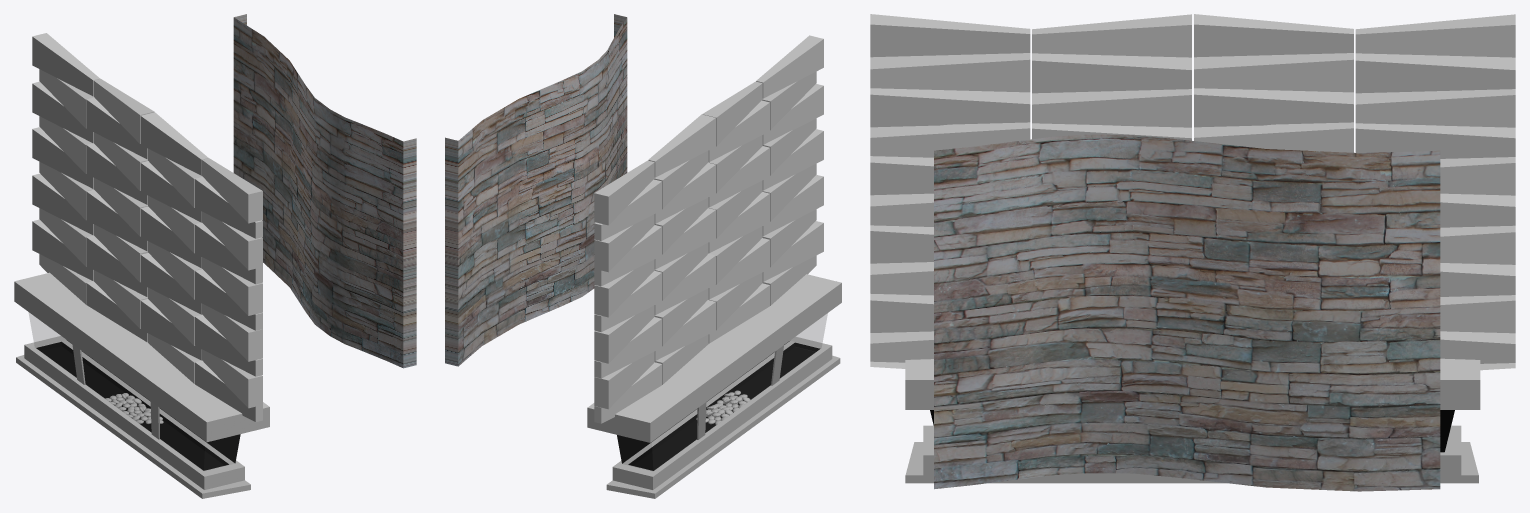
File: fireplace.fbx
The picture shows the model from 3 angles, left to right: view 1: azimuth 30°, elevation 25°; view 2: azimuth 150°, elevation 25°; view 3: azimuth 270°, elevation 25°; orthographic projection. The views are drawn at different scales.
Visible parts, largest first — view 1: fireplaceChiminy, fireplaceTop, fireplaceBase, fireplaceGlass, FireplaceWallTile19, FireplaceWallTile39, FireplaceWallTile20, FireplaceWallTile40, FireplaceWallTile18, FireplaceWallTile9, FireplaceWallTile7, FireplaceWallTile17 (+32 smaller); view 2: fireplaceChiminy, fireplaceTop, fireplaceBase, fireplaceGlass, FireplaceWallTile20, FireplaceWallTile40, FireplaceWallTile39, FireplaceWallTile35, FireplaceWallTile19, FireplaceWallTile22, FireplaceWallTile26, FireplaceWallTile25 (+33 smaller); view 3: fireplaceChiminy, FireplaceWallTile20, FireplaceWallTile39, FireplaceWallTile40, FireplaceWallTile19, FireplaceWallTile35, FireplaceWallTile15, FireplaceWallTile18, FireplaceWallTile38, FireplaceWallTile24, FireplaceWallTile17, FireplaceWallTile37 (+19 smaller).
Part boxes in pixels (x1=…): fireplaceChiminy: x1=233, y1=14, x2=416, y2=368; fireplaceTop: x1=14, y1=272, x2=269, y2=442; fireplaceBase: x1=16, y1=336, x2=250, y2=498; fireplaceGlass: x1=28, y1=312, x2=240, y2=470; FireplaceWallTile19: x1=140, y1=112, x2=208, y2=175; FireplaceWallTile39: x1=32, y1=33, x2=100, y2=96; FireplaceWallTile20: x1=202, y1=158, x2=262, y2=223; FireplaceWallTile40: x1=93, y1=79, x2=154, y2=143; FireplaceWallTile18: x1=195, y1=177, x2=262, y2=238; FireplaceWallTile9: x1=202, y1=257, x2=262, y2=315; FireplaceWallTile7: x1=202, y1=349, x2=262, y2=408; FireplaceWallTile17: x1=202, y1=211, x2=262, y2=270; fireplaceChiminy: x1=445, y1=14, x2=627, y2=366; fireplaceTop: x1=587, y1=274, x2=841, y2=442; fireplaceBase: x1=606, y1=337, x2=840, y2=498; fireplaceGlass: x1=617, y1=313, x2=827, y2=470; FireplaceWallTile20: x1=756, y1=35, x2=823, y2=98; FireplaceWallTile40: x1=648, y1=114, x2=715, y2=177; FireplaceWallTile39: x1=594, y1=160, x2=654, y2=225; FireplaceWallTile35: x1=594, y1=179, x2=661, y2=240; FireplaceWallTile19: x1=702, y1=81, x2=762, y2=146; FireplaceWallTile22: x1=594, y1=305, x2=654, y2=363; FireplaceWallTile26: x1=594, y1=270, x2=661, y2=332; FireplaceWallTile25: x1=594, y1=317, x2=661, y2=378; fireplaceChiminy: x1=934, y1=134, x2=1440, y2=491; FireplaceWallTile20: x1=870, y1=14, x2=1030, y2=67; FireplaceWallTile39: x1=1355, y1=14, x2=1515, y2=67; FireplaceWallTile40: x1=1194, y1=14, x2=1353, y2=67; FireplaceWallTile19: x1=1032, y1=14, x2=1191, y2=67; FireplaceWallTile35: x1=1355, y1=58, x2=1515, y2=103; FireplaceWallTile15: x1=1032, y1=58, x2=1191, y2=103; FireplaceWallTile18: x1=870, y1=58, x2=1030, y2=102; FireplaceWallTile38: x1=1194, y1=58, x2=1353, y2=102; FireplaceWallTile24: x1=1355, y1=123, x2=1515, y2=166; FireplaceWallTile17: x1=870, y1=93, x2=1030, y2=137; FireplaceWallTile37: x1=1194, y1=93, x2=1353, y2=137.
Size of the model in its own units: 11.39 by 15.14 by 19.3.
Materials: 6 (1 with a texture image).
